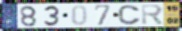0: (70, 4, 90, 27)
3: (43, 5, 60, 27)
7: (94, 4, 112, 27)
8: (20, 5, 38, 27)
C: (117, 4, 142, 26)
R: (141, 4, 165, 26)
